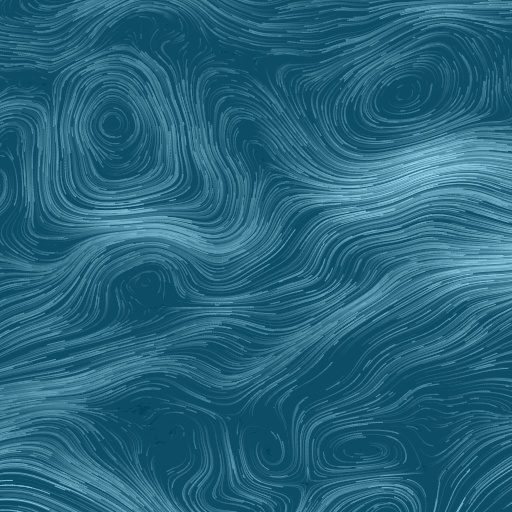eddy: (55, 54, 187, 206), (358, 51, 452, 130), (315, 427, 409, 475), (249, 428, 292, 474), (124, 268, 163, 302)
